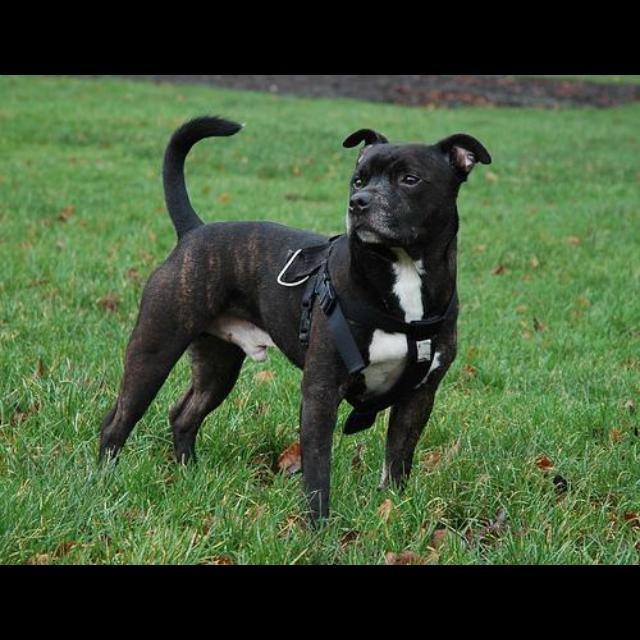staffford: (98, 114, 493, 530)
